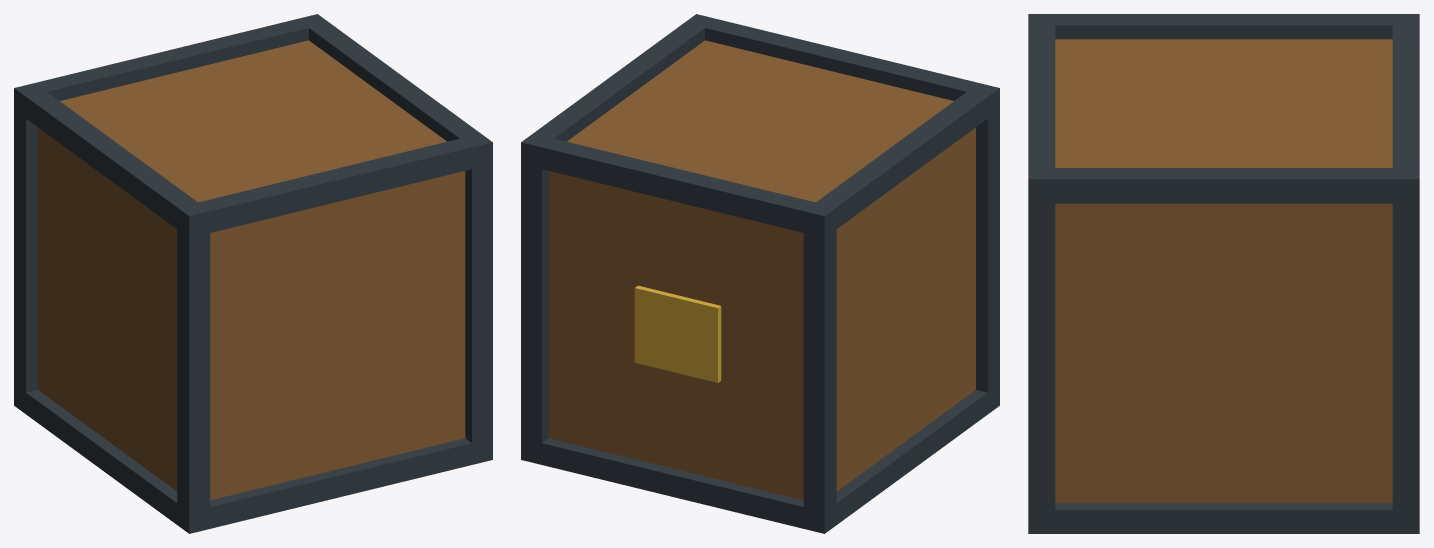
Rendered from example_crate.obj.
3 renders of one model, left to right at view 1: azimuth 30°, elevation 25°; view 2: azimuth 150°, elevation 25°; view 3: azimuth 270°, elevation 25°, orthographic. The views are drawn at different scales.
Size of the model in its own units: 2.04 by 2.04 by 2.04.
Materials: 3 (3 with a texture image).
